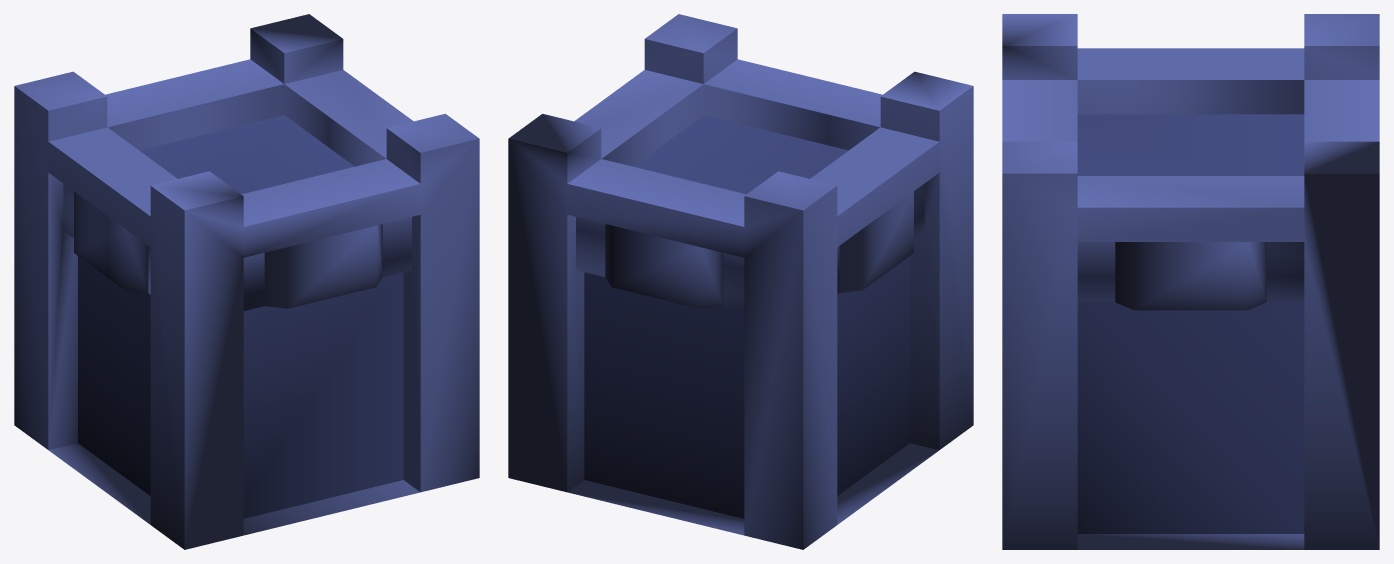
The model's file is wall.obj.
3 views of the same model, side by side, from view 1: azimuth 30°, elevation 25°; view 2: azimuth 150°, elevation 25°; view 3: azimuth 270°, elevation 25° (orthographic). The views are drawn at different scales.
Parts seen in each view (by area): view 1: wall; view 2: wall; view 3: wall.
Boxes of the visible parts, x1,y1,x2,y2 form: wall: [14, 14, 479, 549]; wall: [508, 14, 973, 549]; wall: [1002, 14, 1379, 549].
Bounding box in the file's own units: 1 × 1.1 × 1.
